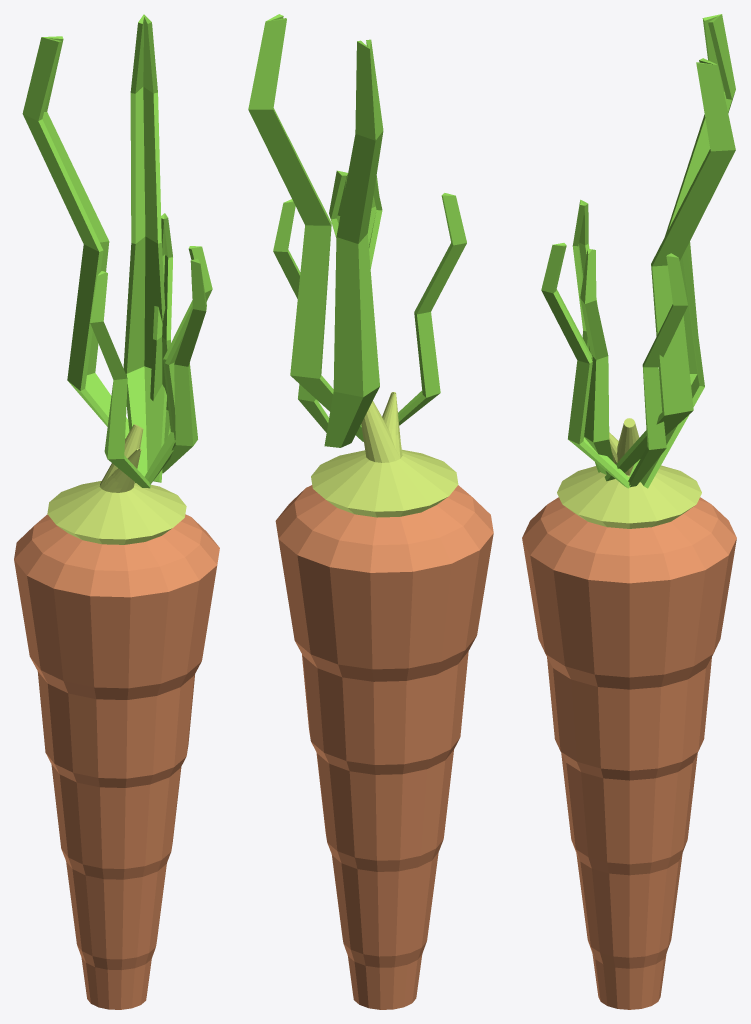
Rendered from fruit14.fbx.
3 renders of one model, left to right at view 1: azimuth 30°, elevation 25°; view 2: azimuth 150°, elevation 25°; view 3: azimuth 270°, elevation 25°, orthographic. The views are drawn at different scales.
Visible parts, largest first — view 1: Plane.066; view 2: Plane.066; view 3: Plane.066.
Part boxes in pixels (x1,y1,x2,y2): Plane.066: (14,14,219,1009); Plane.066: (248,14,493,1009); Plane.066: (522,14,736,1009).
Bounding box in the file's own units: 0.1118 × 0.5552 × 0.1118.
